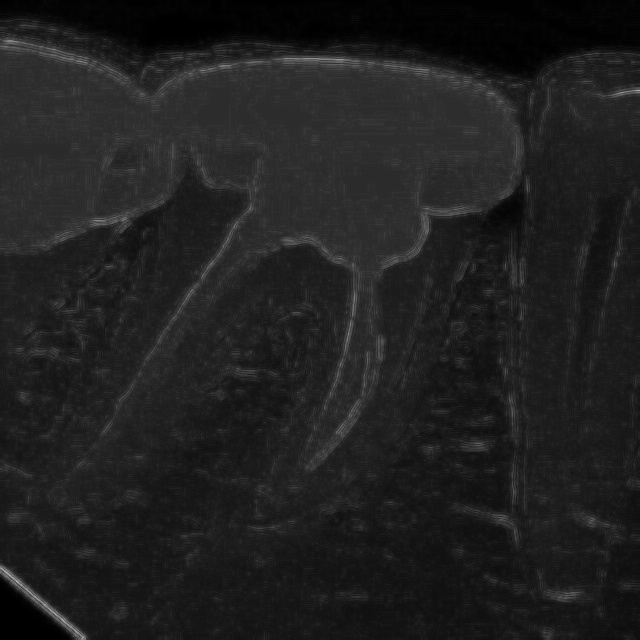Class 1- complete endodontic treatment: (51, 40, 516, 586)
cavity: (493, 56, 640, 624)
